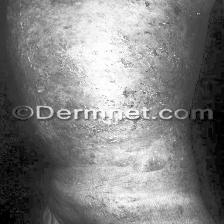Non-Cancerous Skin Condition: (8, 0, 210, 107), (34, 121, 191, 170)
